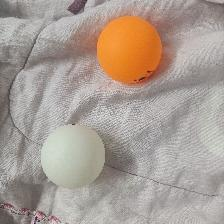WhiteBall: (39, 123, 106, 189)
YellowBall: (95, 15, 162, 85)
